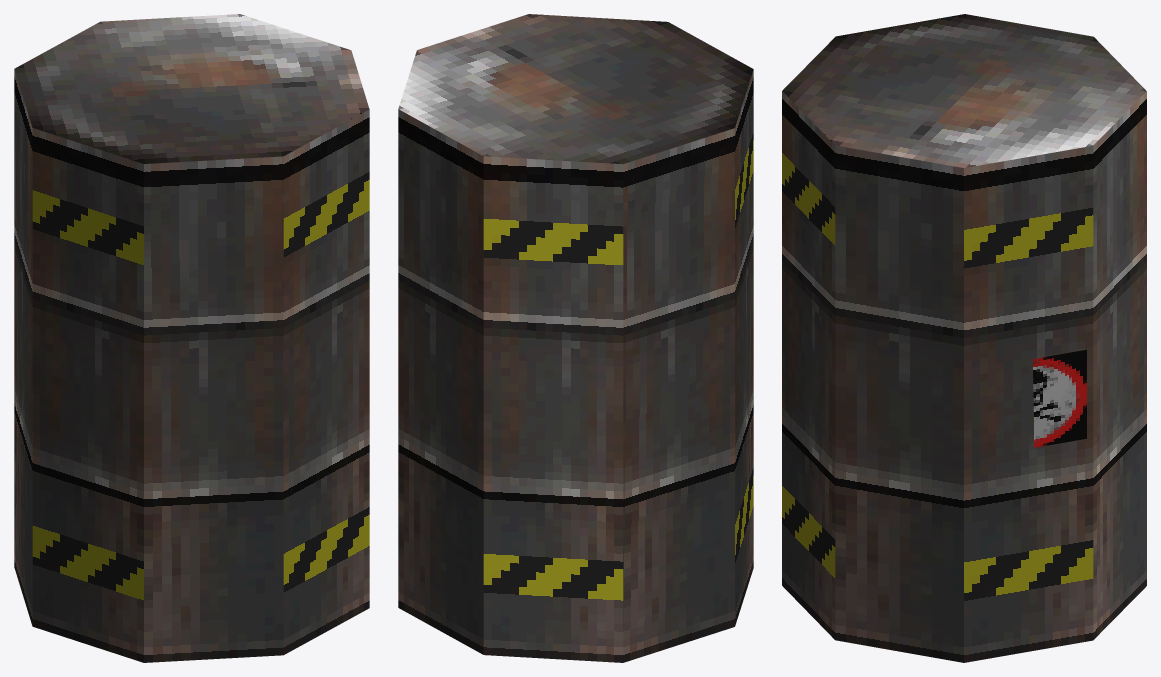
File: primary_149.glb
3 views of the same model, side by side, from view 1: azimuth 30°, elevation 25°; view 2: azimuth 150°, elevation 25°; view 3: azimuth 270°, elevation 25° (orthographic).
Visible parts, largest first — view 1: Object; view 2: Object; view 3: Object.
Boxes of the visible parts, x1,y1,x2,y2 form: Object: (14,14,369,662); Object: (398,14,753,662); Object: (782,14,1146,662).
Size of the model in its own units: 0.6792 by 1.02 by 0.6792.
Materials: 9 (9 with a texture image).
